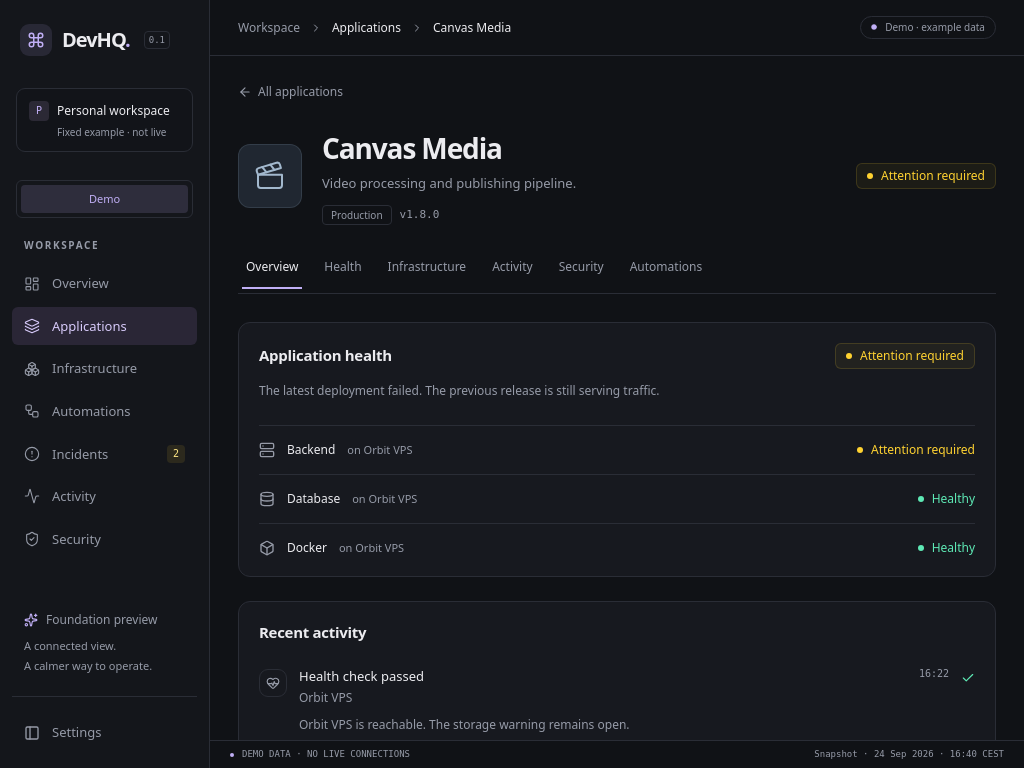
it: workspace navigation › connects an application component to its resource and shows its incident
Click the link "Orbit VPS" in the row of "Backend": click(388, 449) [364,442,412,456]
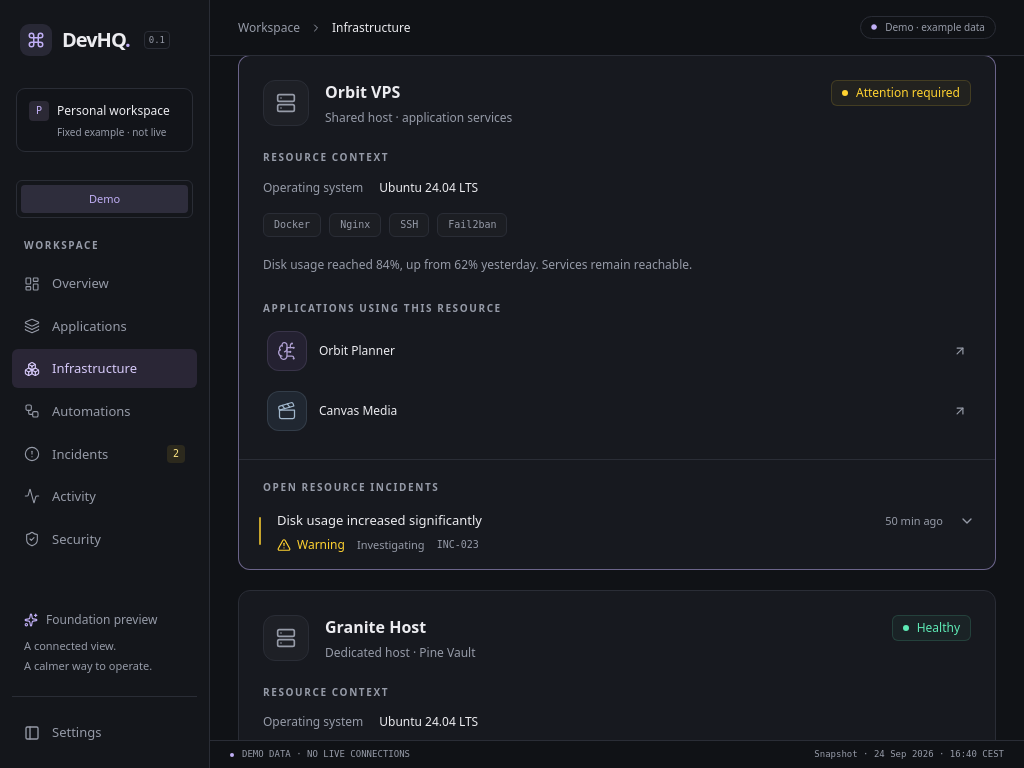
Result: the text "Disk usage increased significantly" is shown at [277,510,482,528]
Result: the heading "Open resource incidents" is shown at [263,480,440,494]
